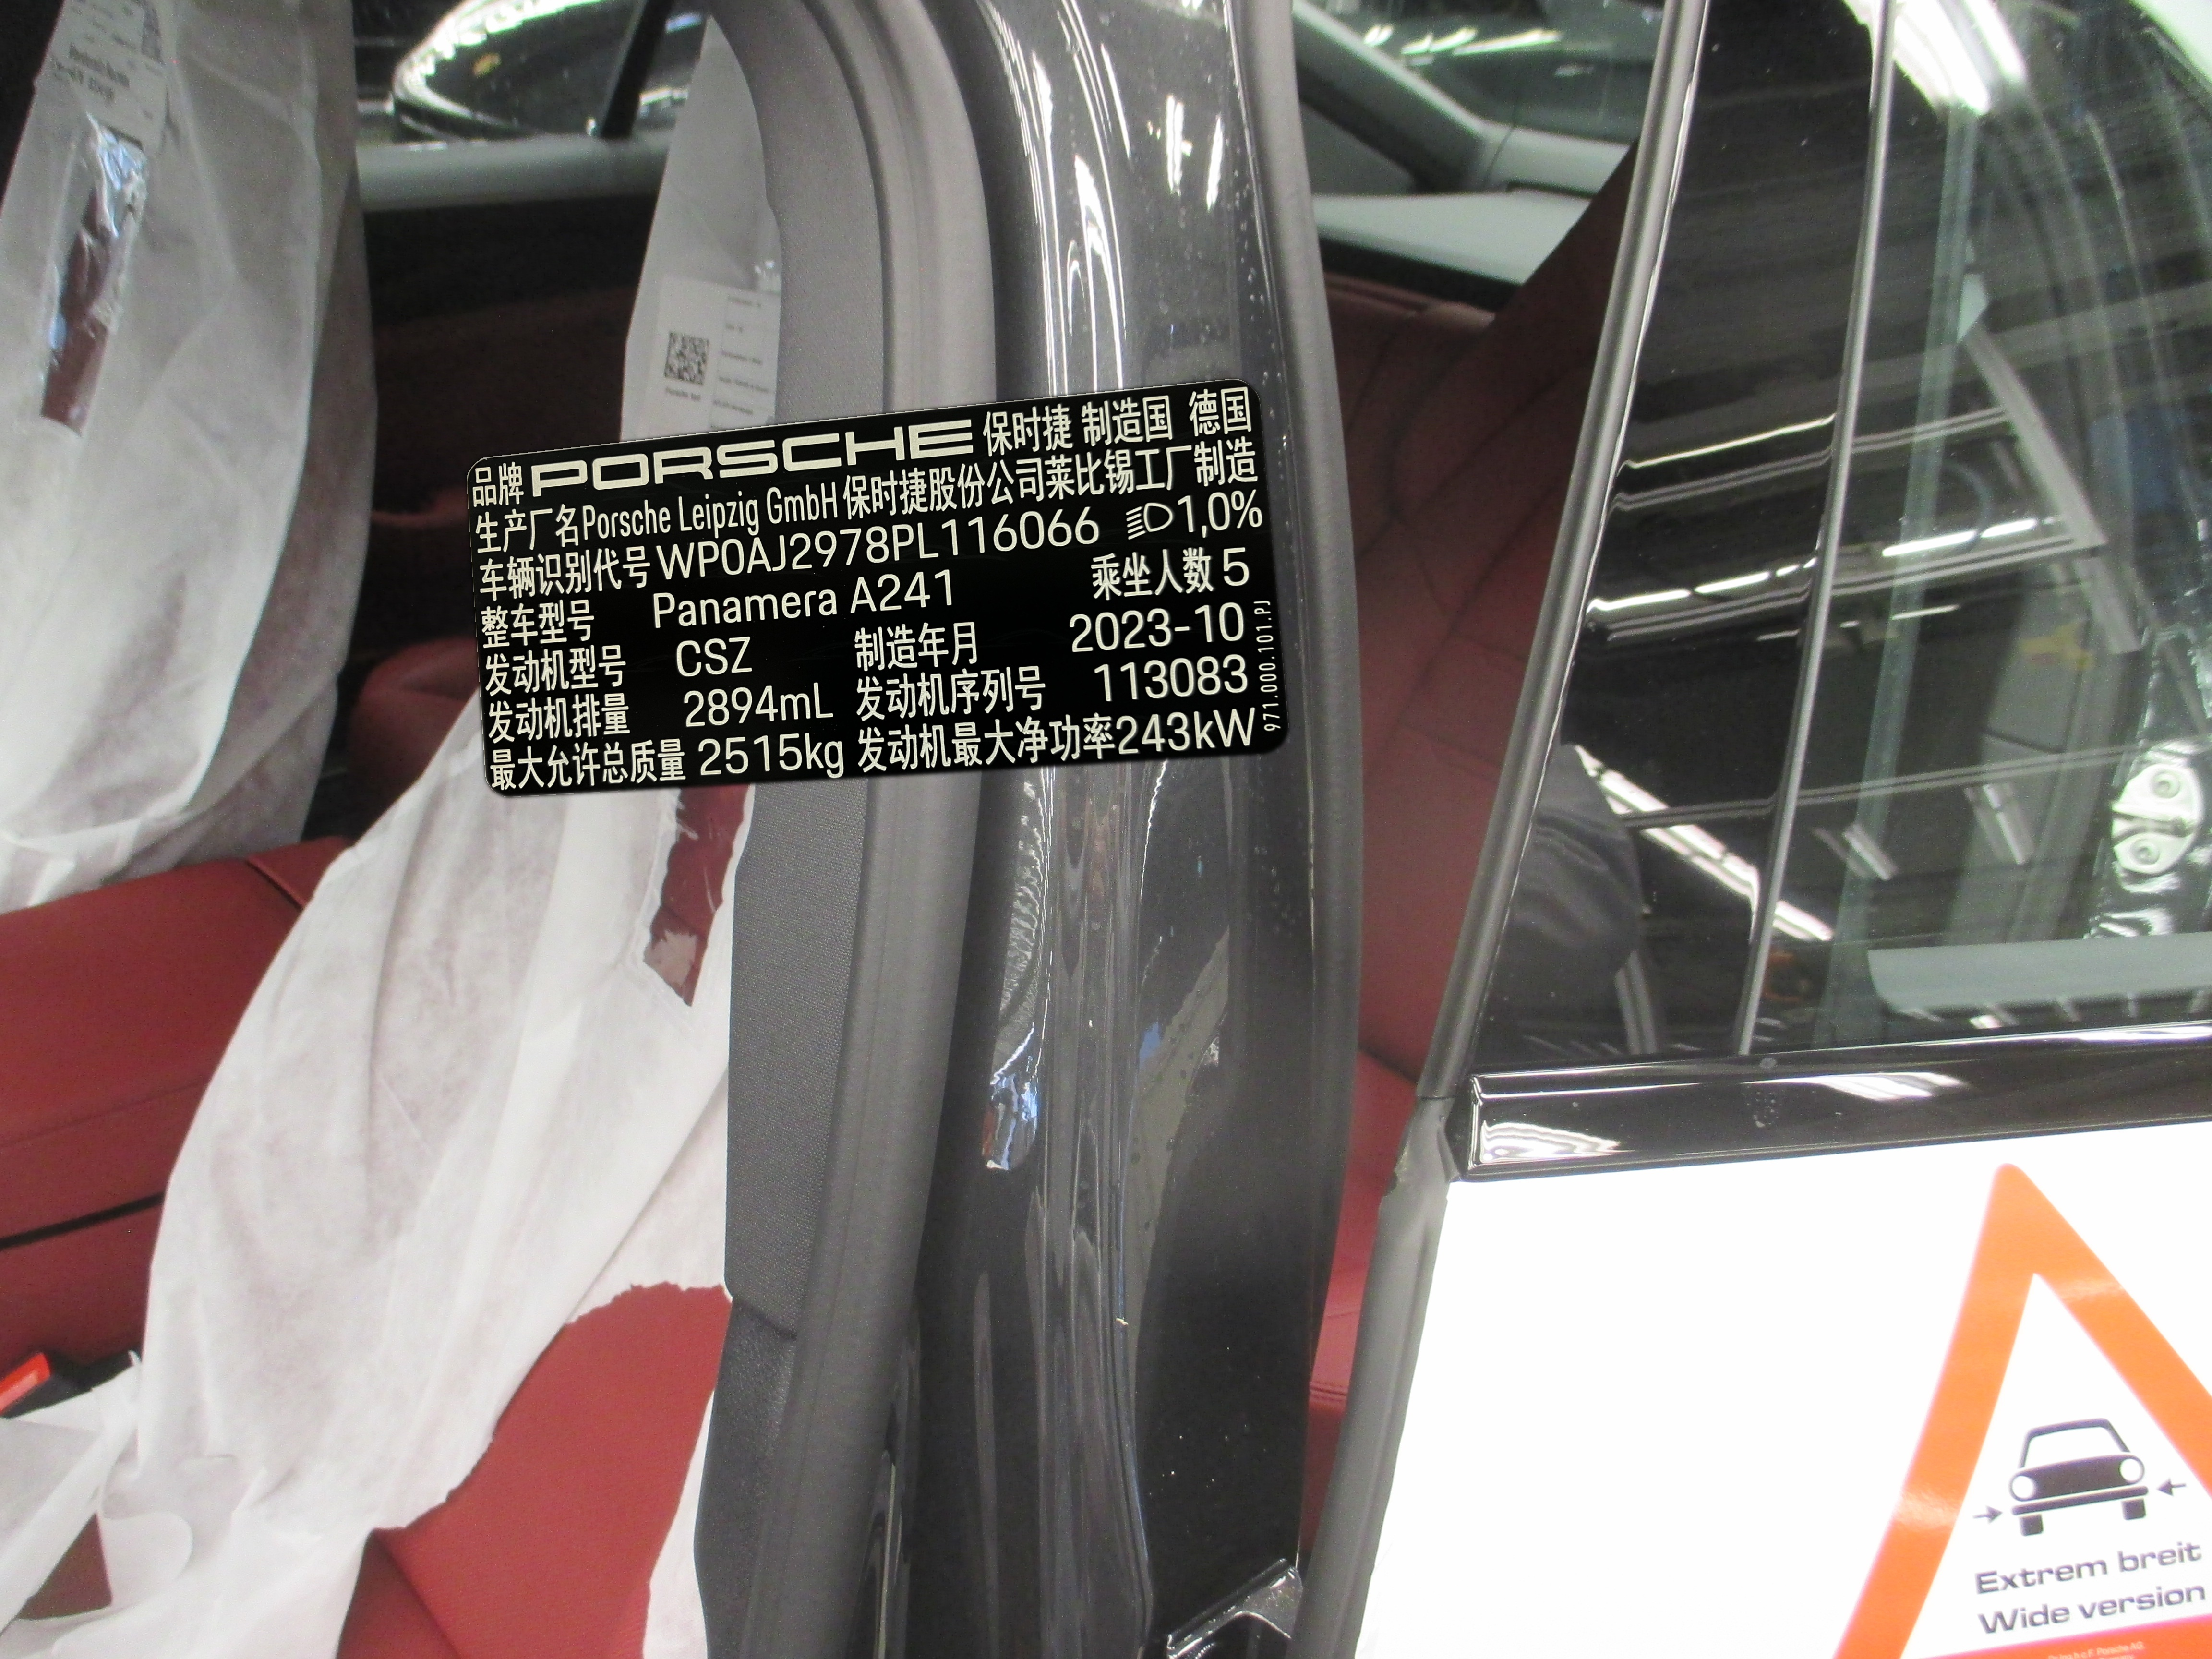Typlabel-China: (467, 378, 1289, 796)
